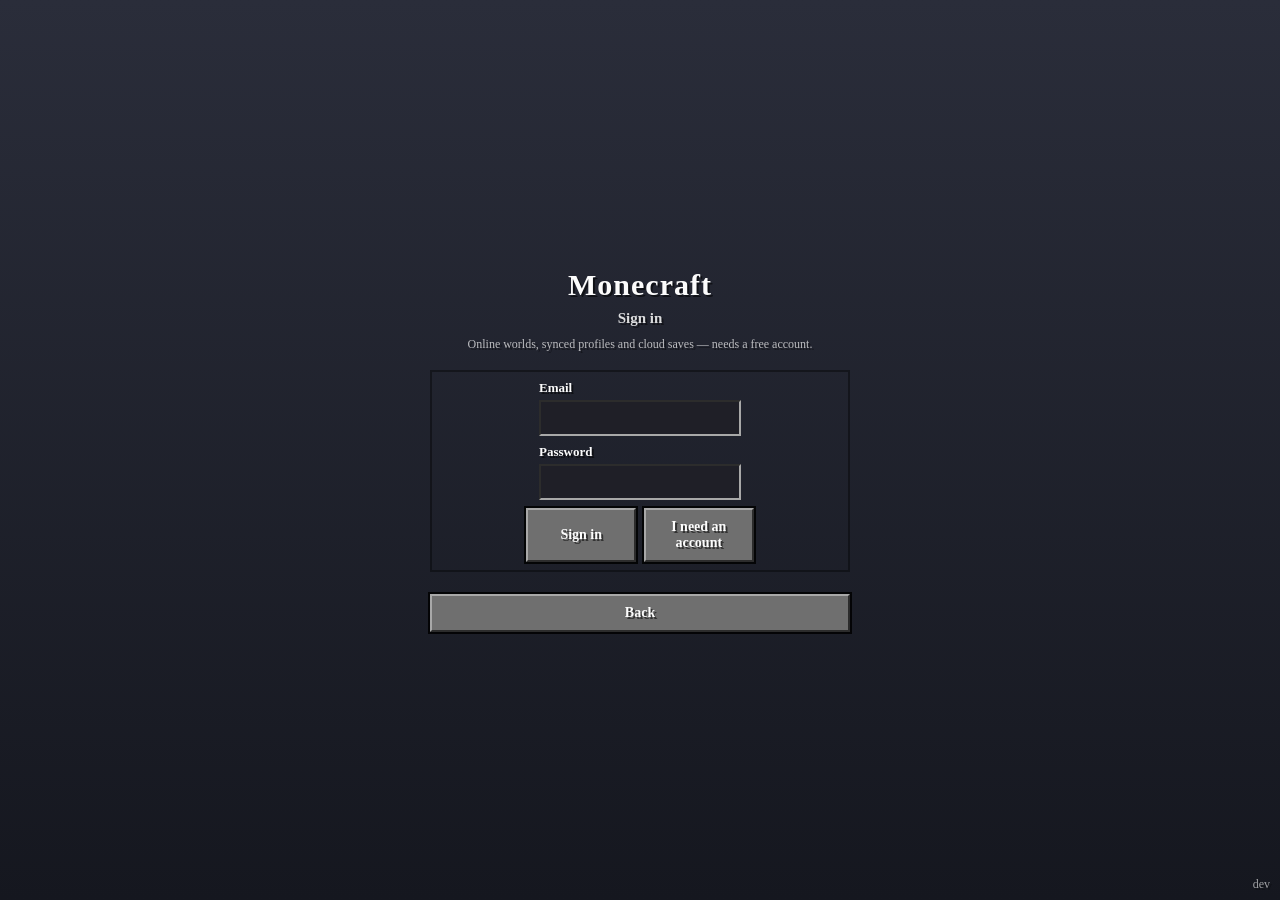
AuthScreen › a failed sign-in's error clears when switching modes
Type "fail@example.com" into the field labelled "Email". click: (640, 418)
box: [539,400,741,436]
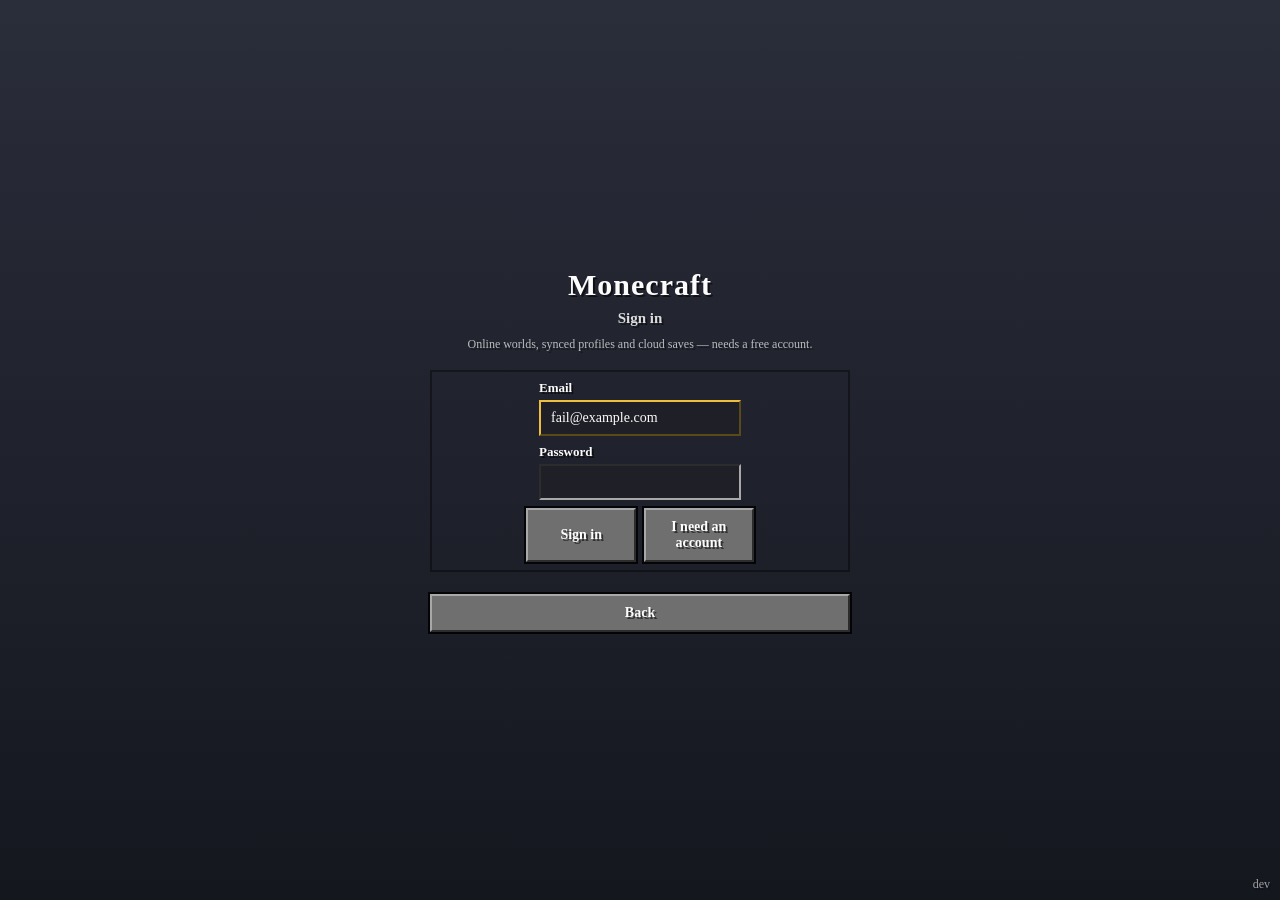
Type "hunter2hunter2" into the password field labelled "Password". click: (640, 482)
box: [539,464,741,500]
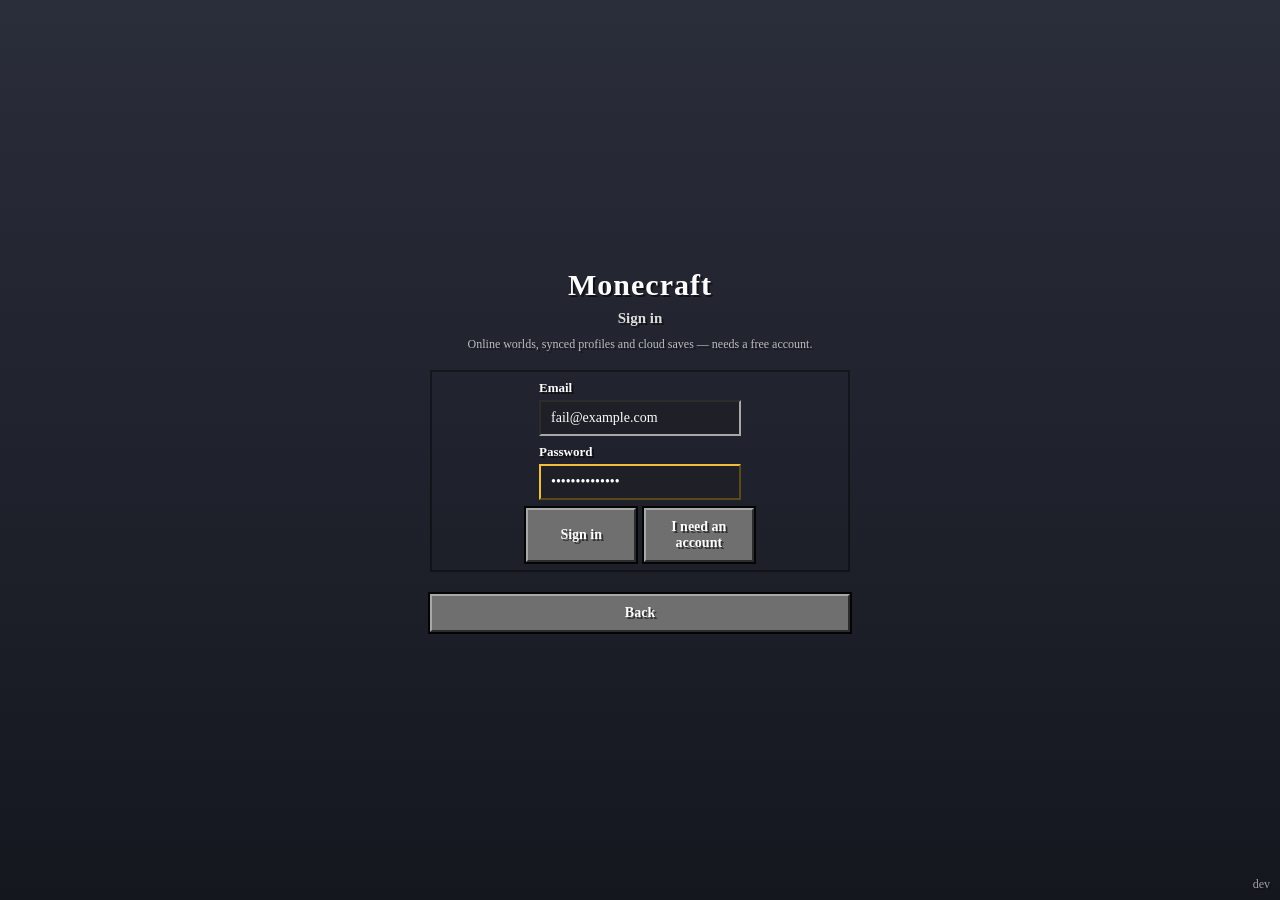
Click the button "Sign in". click: (581, 535)
box: [526,508,636,562]
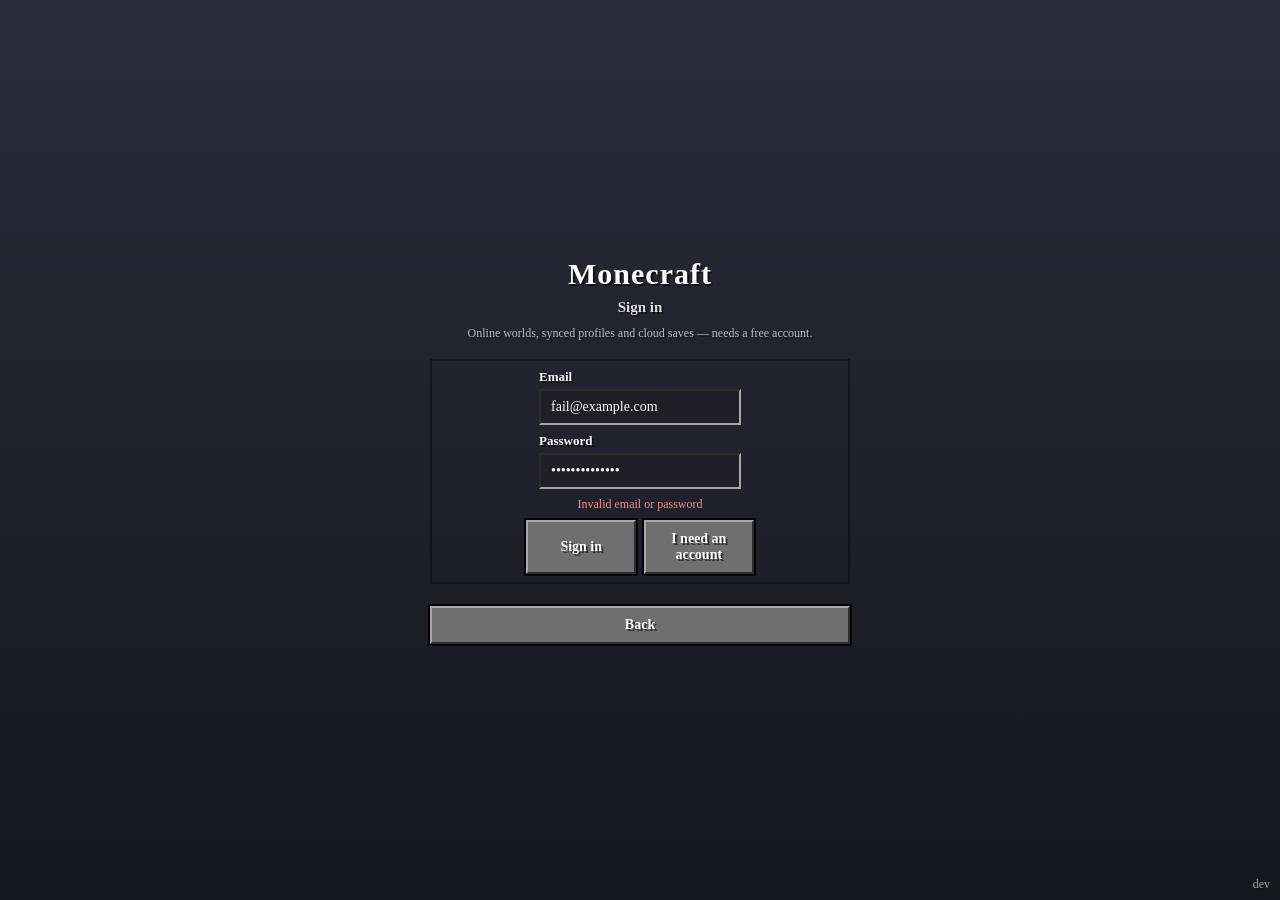
Expected: the text "Invalid email or password" is shown, [578,496,702,512]
Click the button "I need an account". click: (699, 546)
box: [644,520,754,574]
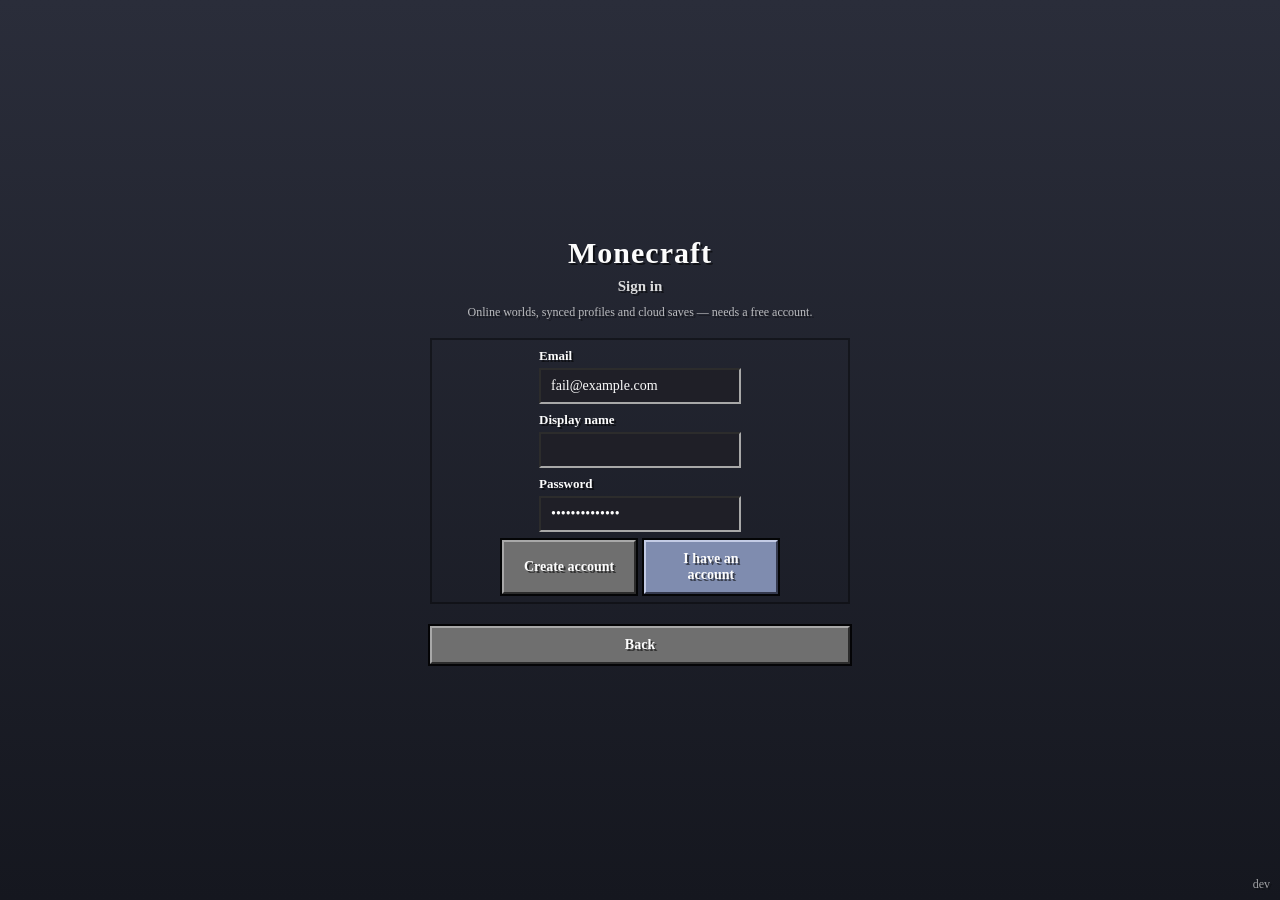
Expected: the text "Invalid email or password" is gone
